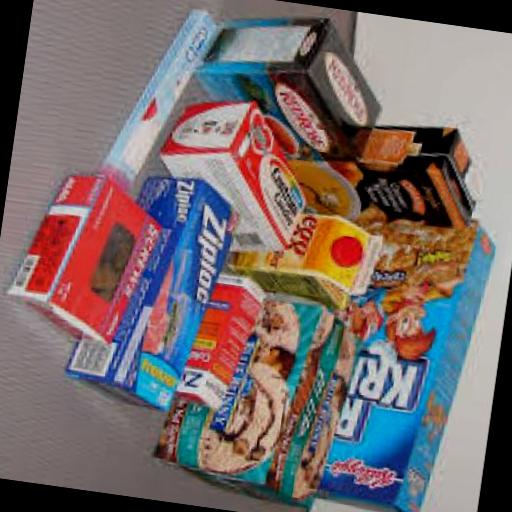cardboard: (283, 198, 502, 512), (151, 280, 370, 509), (68, 162, 250, 418), (190, 0, 397, 162), (4, 164, 173, 350), (154, 87, 324, 259), (294, 106, 496, 233), (104, 0, 227, 191), (230, 201, 391, 310), (174, 268, 272, 408)
